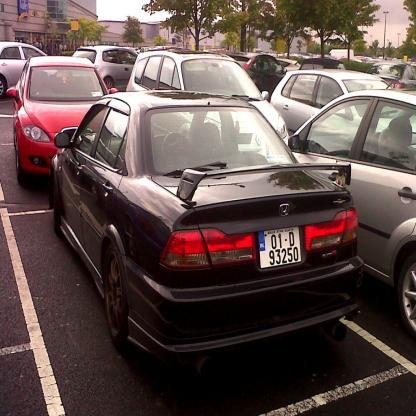Car: (1, 42, 416, 365), (308, 77, 416, 346)
